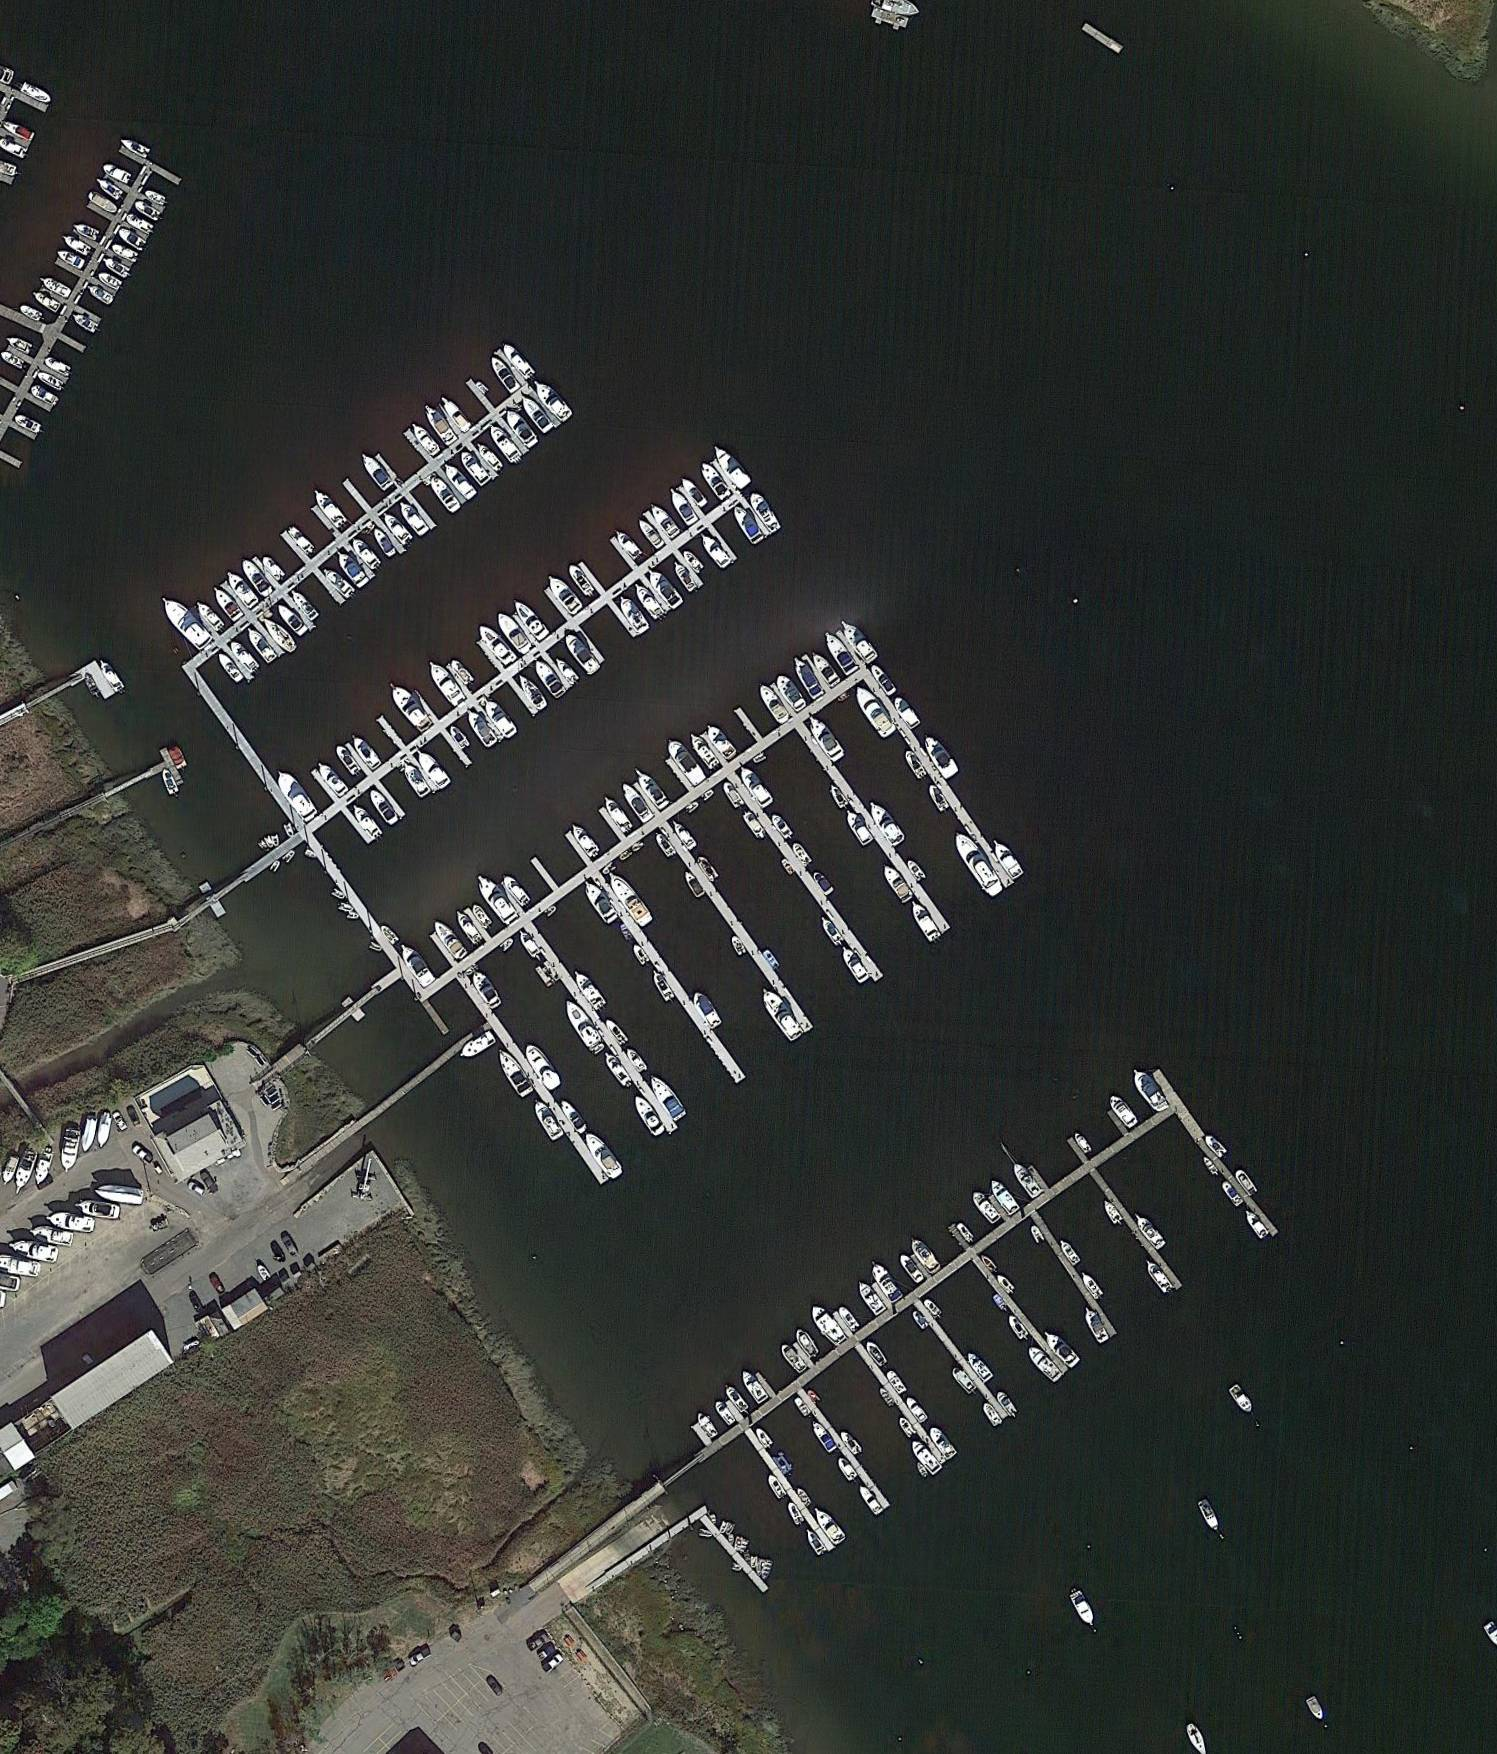harbor: (409, 627, 1015, 1209), (675, 1066, 1279, 1591), (284, 457, 770, 864), (170, 347, 562, 698), (1, 141, 184, 494)
ship: (947, 828, 1005, 899), (157, 592, 213, 651), (383, 677, 435, 735), (606, 871, 656, 931), (756, 984, 805, 1043), (850, 681, 898, 741), (470, 870, 520, 926), (273, 768, 322, 825), (560, 997, 607, 1056), (581, 1129, 627, 1182), (644, 1071, 689, 1124), (709, 440, 754, 492), (492, 1047, 537, 1099), (663, 736, 708, 787), (521, 1040, 563, 1093), (805, 712, 847, 765), (530, 374, 574, 424), (424, 657, 467, 708), (1127, 1064, 1170, 1115), (838, 615, 881, 666), (475, 620, 519, 668), (865, 798, 907, 848), (920, 730, 961, 781), (509, 596, 552, 643), (579, 878, 621, 926), (806, 1301, 848, 1348), (493, 609, 534, 657), (396, 941, 436, 989), (822, 628, 861, 677), (631, 765, 672, 811), (412, 744, 452, 791), (736, 762, 775, 810), (429, 917, 470, 962), (646, 566, 686, 612), (562, 632, 603, 676), (310, 485, 350, 530), (545, 572, 585, 617), (570, 965, 608, 1012), (1041, 1327, 1082, 1370), (1023, 1342, 1064, 1385), (421, 402, 460, 447), (617, 780, 656, 825), (613, 592, 652, 637), (867, 1259, 905, 1305), (789, 655, 826, 702), (332, 547, 372, 590), (528, 1098, 566, 1143), (989, 836, 1026, 882), (746, 491, 783, 536), (906, 898, 943, 943), (755, 682, 792, 727), (441, 459, 479, 502), (532, 657, 569, 701), (514, 669, 551, 713), (238, 556, 275, 600), (349, 797, 385, 842), (632, 1091, 667, 1137), (481, 698, 519, 740), (811, 1505, 848, 1548), (1132, 1208, 1168, 1252), (358, 452, 396, 493), (503, 409, 541, 450), (907, 1436, 945, 1477), (486, 422, 523, 464), (243, 624, 280, 666), (224, 569, 261, 611), (689, 988, 724, 1032), (261, 615, 299, 655), (463, 707, 499, 749), (365, 785, 401, 827), (697, 529, 733, 571), (878, 863, 914, 905), (730, 503, 765, 546), (7, 1237, 60, 1265), (347, 732, 384, 772), (314, 758, 351, 798), (774, 674, 811, 714), (907, 1234, 942, 1276), (631, 579, 666, 621), (1081, 22, 1125, 55), (395, 498, 431, 538), (697, 462, 733, 502), (457, 447, 492, 488), (1009, 1159, 1044, 1200), (837, 944, 872, 985), (600, 793, 635, 834), (808, 648, 843, 689), (501, 342, 537, 381), (520, 394, 555, 434), (487, 354, 522, 394), (210, 583, 245, 623), (704, 722, 739, 762), (380, 508, 415, 547), (428, 476, 463, 515), (439, 395, 474, 434), (647, 501, 682, 540), (968, 1187, 1003, 1226), (687, 732, 722, 771), (10, 1148, 39, 1195), (854, 1277, 888, 1317), (737, 1366, 771, 1406), (470, 970, 503, 1011), (842, 807, 875, 848), (274, 601, 310, 638), (1141, 1257, 1176, 1295), (988, 1176, 1021, 1216), (320, 566, 357, 601), (349, 534, 383, 572), (409, 420, 443, 458), (399, 761, 433, 799), (228, 637, 262, 675), (1106, 1093, 1140, 1131), (452, 907, 485, 946), (889, 694, 923, 731), (500, 871, 533, 909), (458, 1030, 497, 1062), (28, 1223, 76, 1249), (288, 586, 321, 623), (1066, 1588, 1098, 1626), (558, 1097, 589, 1136), (602, 1049, 633, 1088), (568, 822, 601, 858), (634, 515, 667, 550), (963, 1348, 995, 1384), (927, 1425, 959, 1461), (94, 1183, 144, 1206), (214, 648, 245, 685), (808, 1418, 839, 1455), (47, 1210, 96, 1233), (868, 662, 899, 698), (1082, 1306, 1110, 1345), (332, 742, 363, 777), (669, 817, 700, 852), (567, 562, 597, 598), (59, 1127, 82, 1173), (678, 475, 709, 509), (195, 599, 226, 633), (97, 657, 126, 693), (475, 440, 505, 474), (856, 1483, 886, 1517), (779, 1342, 809, 1376), (76, 1198, 122, 1220), (32, 1147, 57, 1187), (614, 527, 643, 561), (286, 524, 316, 556), (897, 1252, 926, 1285), (817, 914, 846, 947), (1227, 1382, 1256, 1415), (900, 748, 929, 781), (949, 1364, 979, 1395), (371, 526, 399, 559), (1183, 1721, 1211, 1754), (740, 808, 768, 841), (719, 778, 747, 811), (670, 560, 698, 593), (793, 1326, 821, 1359), (86, 188, 120, 215), (1196, 1498, 1223, 1532), (39, 274, 74, 300), (1242, 1208, 1270, 1240), (649, 969, 676, 1002), (30, 288, 62, 315), (862, 1337, 889, 1369), (2, 117, 36, 142), (722, 1384, 750, 1414), (925, 782, 952, 813), (1232, 1167, 1259, 1198), (603, 1016, 630, 1047), (20, 80, 54, 104), (449, 657, 476, 687), (554, 655, 581, 685), (904, 1394, 930, 1425), (769, 810, 795, 841), (29, 382, 61, 407), (60, 232, 92, 257), (260, 554, 287, 583), (838, 1428, 865, 1457), (446, 721, 472, 751), (117, 226, 147, 252), (695, 1410, 721, 1440), (1080, 1269, 1105, 1300), (624, 1044, 649, 1075), (80, 1114, 99, 1154), (695, 854, 721, 883), (517, 928, 542, 958), (101, 254, 131, 279), (133, 197, 163, 222), (94, 176, 124, 201), (1057, 1238, 1082, 1268), (1220, 1179, 1245, 1209), (119, 136, 151, 159), (834, 1455, 860, 1483), (994, 1389, 1019, 1418), (712, 1398, 737, 1427), (102, 161, 132, 185), (804, 1527, 828, 1557), (56, 247, 87, 270), (1203, 1132, 1229, 1159), (1005, 1312, 1030, 1340), (811, 869, 836, 897), (884, 1368, 909, 1396), (682, 871, 707, 899), (653, 832, 678, 860), (837, 1304, 861, 1333), (125, 212, 155, 235), (681, 548, 706, 575), (470, 902, 494, 930), (72, 311, 100, 335), (87, 283, 115, 307), (36, 369, 65, 392), (1305, 1694, 1328, 1723), (110, 241, 140, 263), (44, 355, 74, 377), (13, 413, 43, 435), (981, 1402, 1005, 1429), (827, 782, 851, 809), (790, 841, 813, 869), (72, 219, 101, 241), (5, 334, 35, 355), (96, 269, 123, 292), (1101, 1200, 1125, 1225), (766, 1473, 788, 1500), (96, 1111, 112, 1148), (1, 1155, 20, 1186), (18, 302, 46, 323), (160, 767, 180, 796), (906, 857, 928, 883), (1072, 1130, 1093, 1156), (785, 1500, 806, 1526), (167, 745, 187, 771), (379, 923, 401, 946), (896, 1415, 917, 1439), (631, 942, 652, 966), (754, 1426, 775, 1450), (1, 350, 26, 370), (995, 1272, 1016, 1295), (955, 1220, 976, 1243), (922, 1297, 943, 1319), (910, 1308, 930, 1331), (143, 187, 167, 206), (793, 1395, 813, 1417), (729, 934, 748, 957), (762, 948, 781, 971), (979, 1252, 999, 1273), (877, 1387, 897, 1408), (795, 1485, 813, 1508), (1027, 1223, 1046, 1244), (83, 674, 100, 697), (1201, 1155, 1220, 1175), (992, 1293, 1009, 1311), (256, 1264, 272, 1282), (915, 1462, 930, 1478)
small vehicle: (380, 1658, 407, 1683), (526, 1630, 550, 1653), (131, 1143, 155, 1166), (541, 1652, 566, 1674), (408, 1646, 433, 1668), (200, 1170, 220, 1196), (485, 1674, 506, 1697), (280, 1233, 299, 1258), (269, 1240, 288, 1265), (208, 1272, 227, 1295), (536, 1642, 557, 1662), (112, 1110, 129, 1132), (126, 1105, 142, 1128), (187, 1291, 204, 1312), (186, 1180, 207, 1197)
